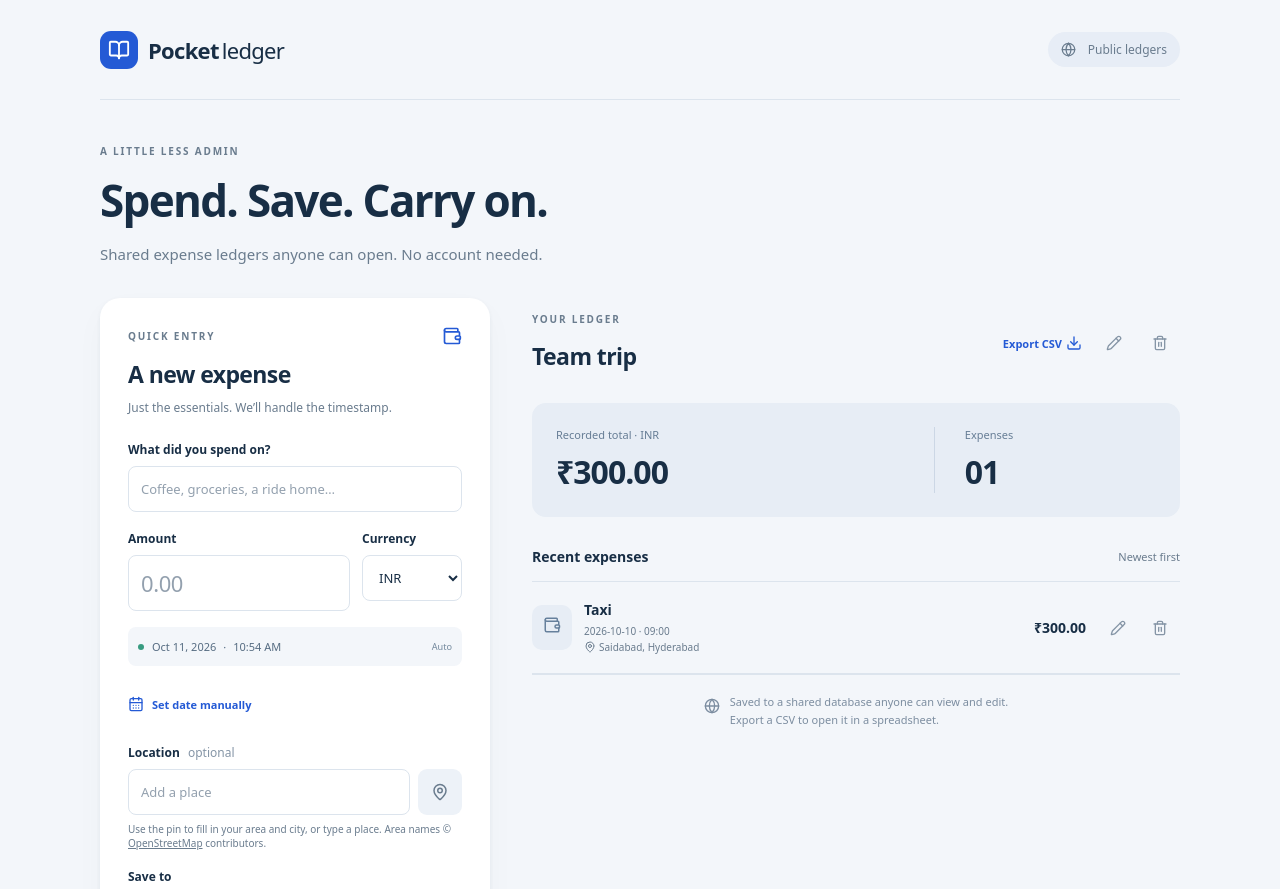
Test: Ledger › cancels editing without saving
Step 1. Click the button named "Edit Taxi" → (1118, 628), box [1098,608,1138,648]
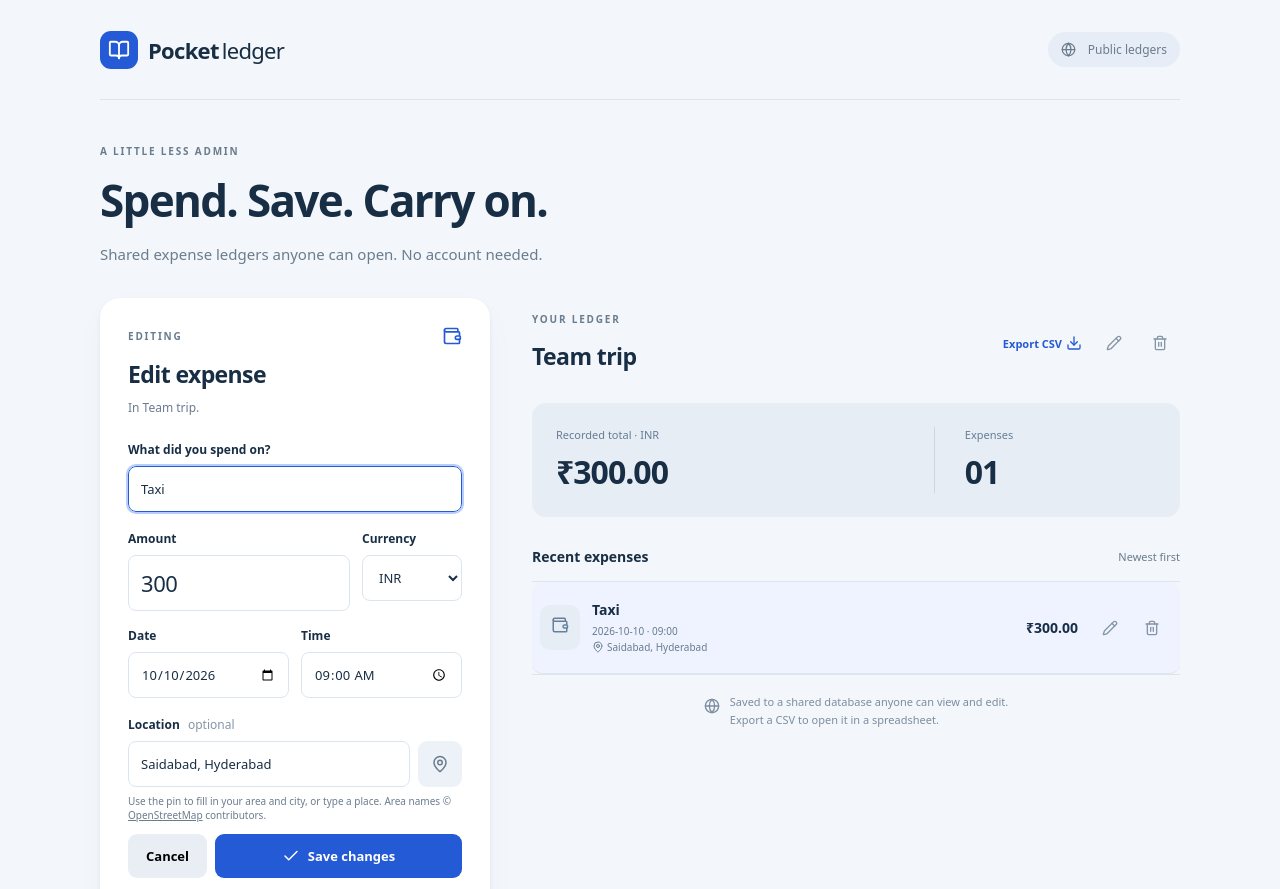
Step 2. Click the button "Cancel" → (168, 856), box [128,834,207,878]
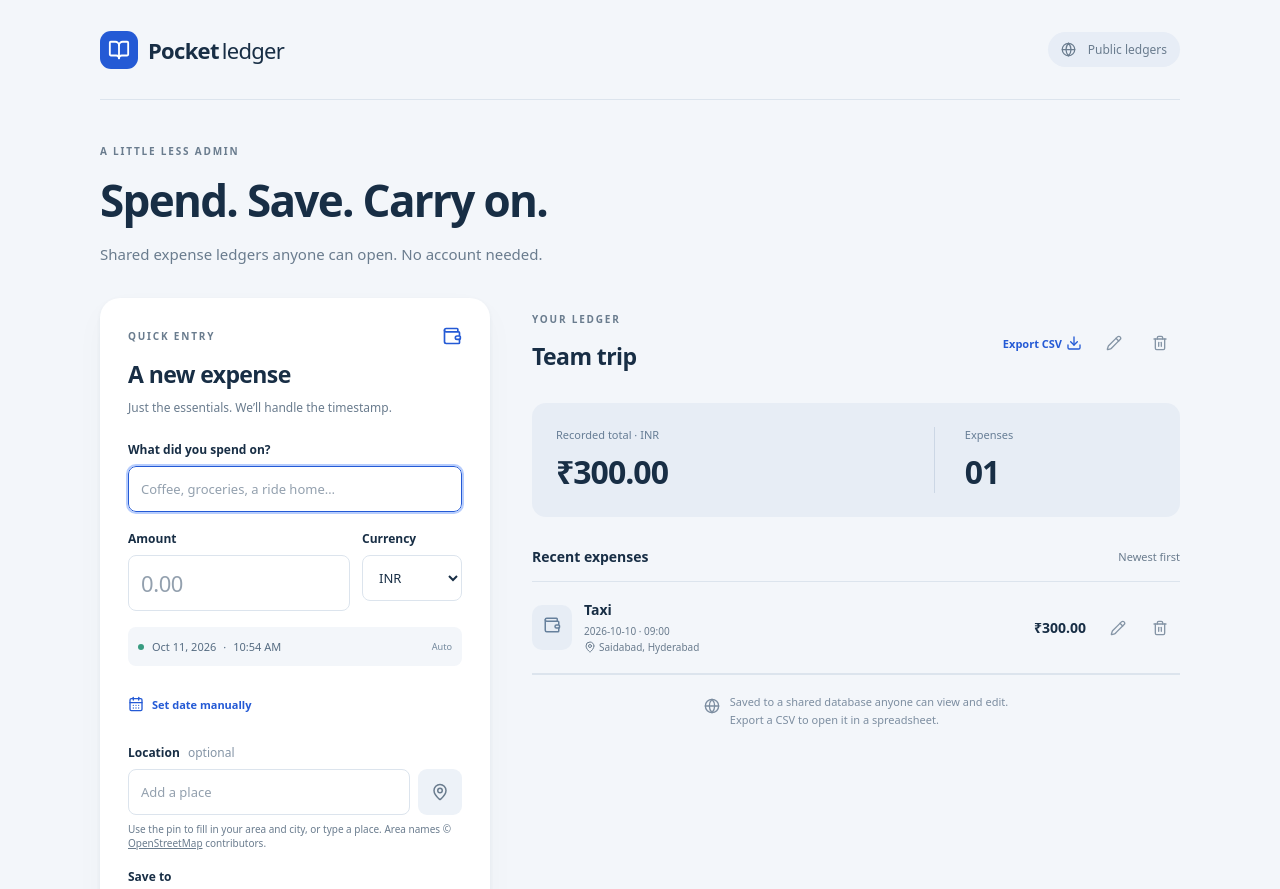
Expected: the heading "A new expense" is shown, [128,358,291,390]
Expected: the field labelled "What did you spend on?" is empty, [128,466,462,512]
